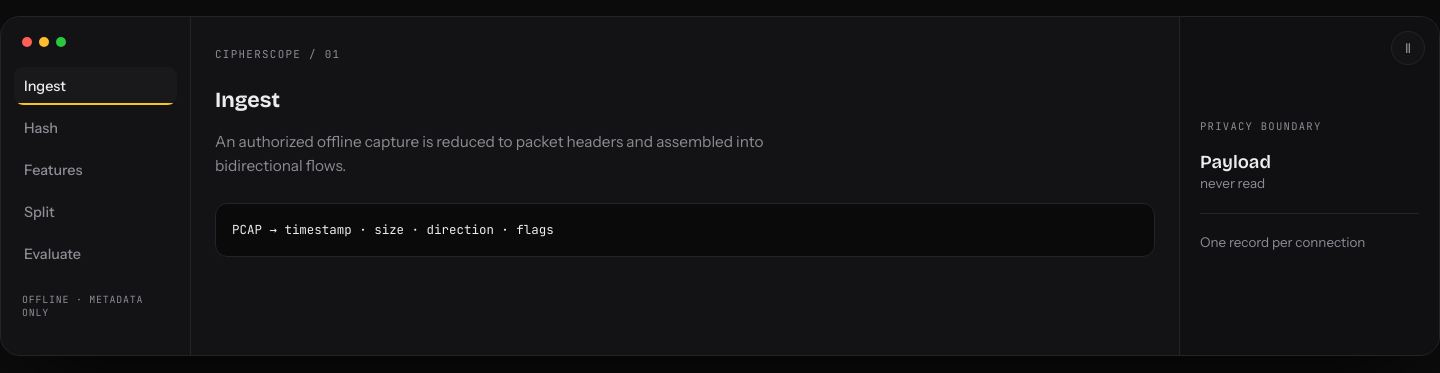
Test: pipeline tour tabs › shows metadata-only details for the selected stage
What coordinates should you click on to do the following:
click the tab "Features"
I would click on:
 (96, 170)
Its box is left=14, top=151, right=177, bottom=189.
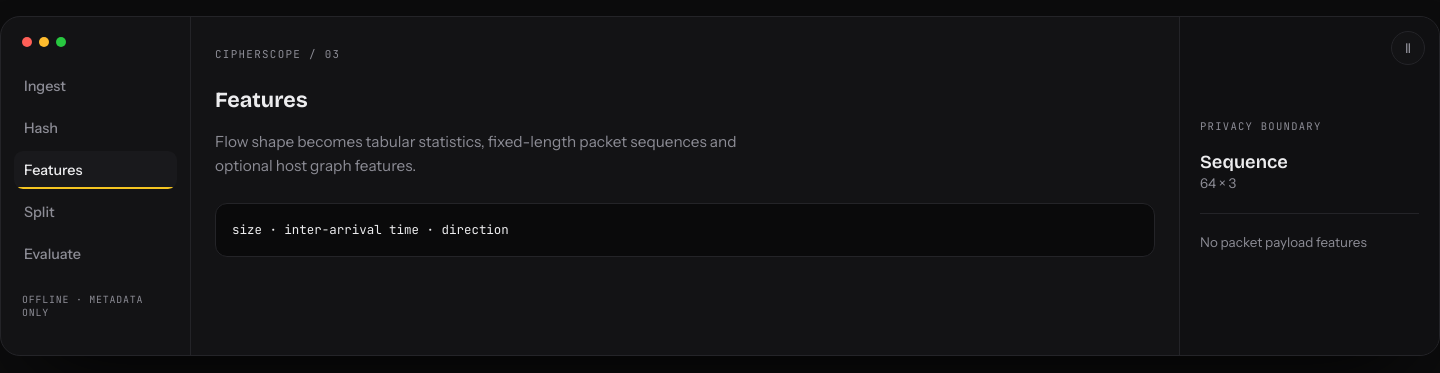
Expected: the panel shows "tabular statistics", left=215, top=132, right=736, bottom=175
Expected: the panel shows "No packet payload features", left=1200, top=234, right=1367, bottom=250
